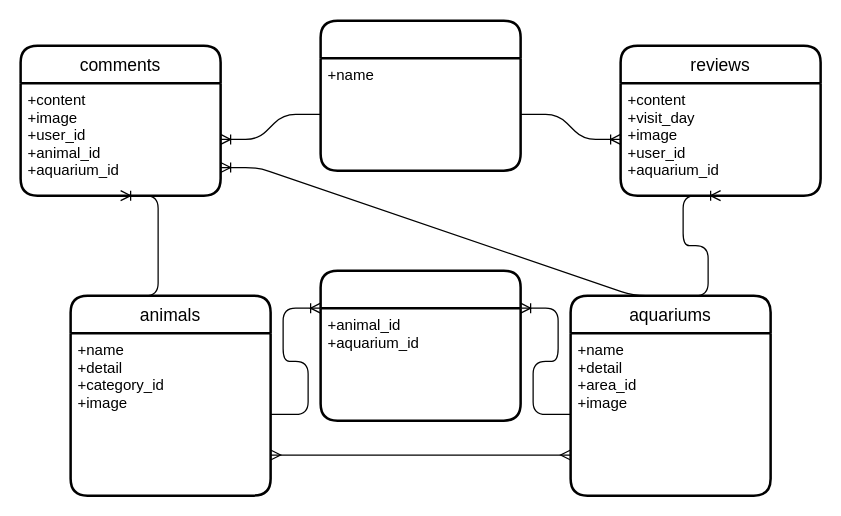
Some shapes in this 841 by 516 pixel diagram are drawn without their labels. The box of each missing label's shape, as (x1, y1, x2, y2) in pixels:
animal_aquariums: (319, 269, 521, 421)
users: (319, 19, 521, 171)
